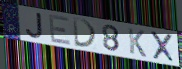8: (102, 24, 122, 53)
D: (72, 17, 99, 50)
E: (47, 13, 72, 47)
J: (24, 12, 44, 40)
K: (127, 26, 148, 59)
X: (149, 30, 176, 64)
